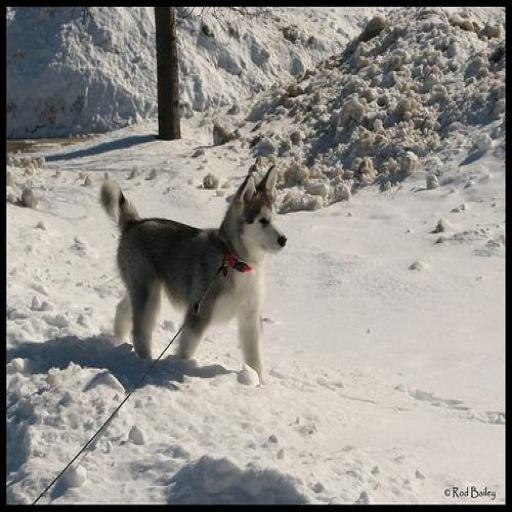dog_face: (236, 167, 291, 258)
